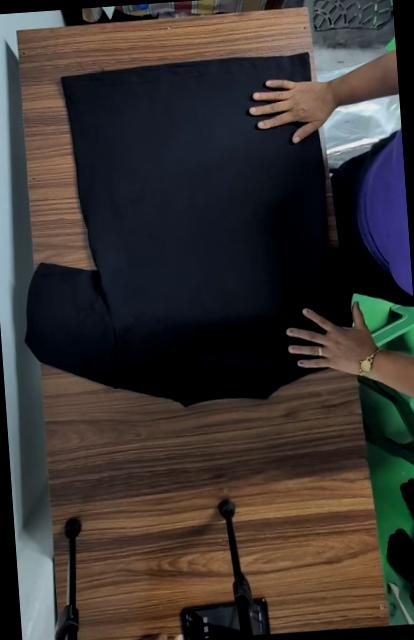new-garment: (26, 53, 347, 405)
